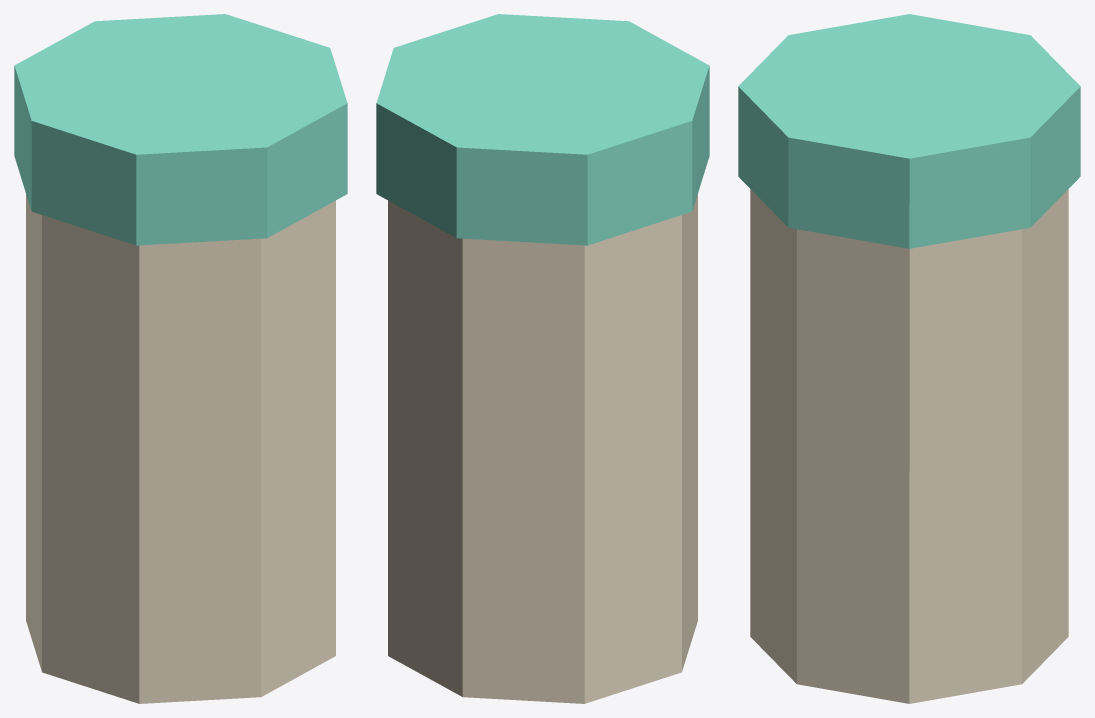
3 views of the same model, side by side, from view 1: azimuth 30°, elevation 25°; view 2: azimuth 150°, elevation 25°; view 3: azimuth 270°, elevation 25° (orthographic).
Parts seen in each view (by area): view 1: Sample vial, Cap; view 2: Sample vial, Cap; view 3: Sample vial, Cap.
Part boxes in pixels (bbox=[...]): Sample vial: bbox=[26, 194, 335, 703]; Cap: bbox=[14, 14, 347, 245]; Sample vial: bbox=[388, 194, 697, 703]; Cap: bbox=[376, 14, 709, 245]; Sample vial: bbox=[750, 189, 1068, 703]; Cap: bbox=[738, 14, 1080, 248].
Size of the model in its own units: 8.6 by 15.25 by 8.6.
